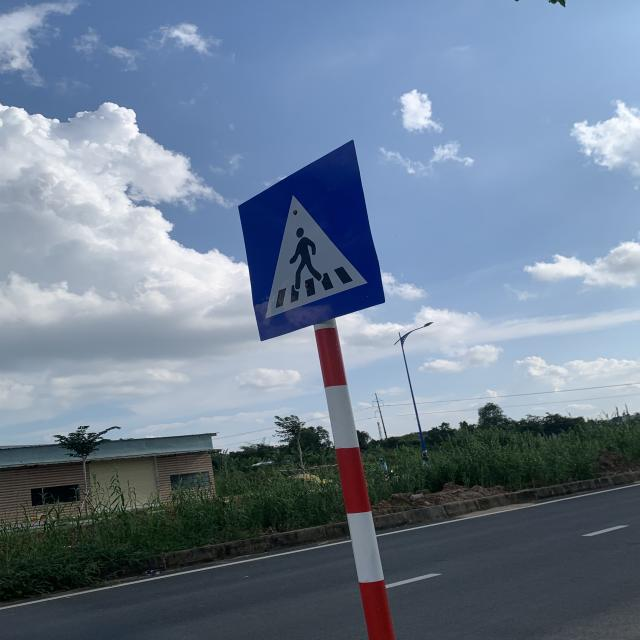Giao_Nhau_Duong_Uu_Tien: (240, 140, 391, 344)
